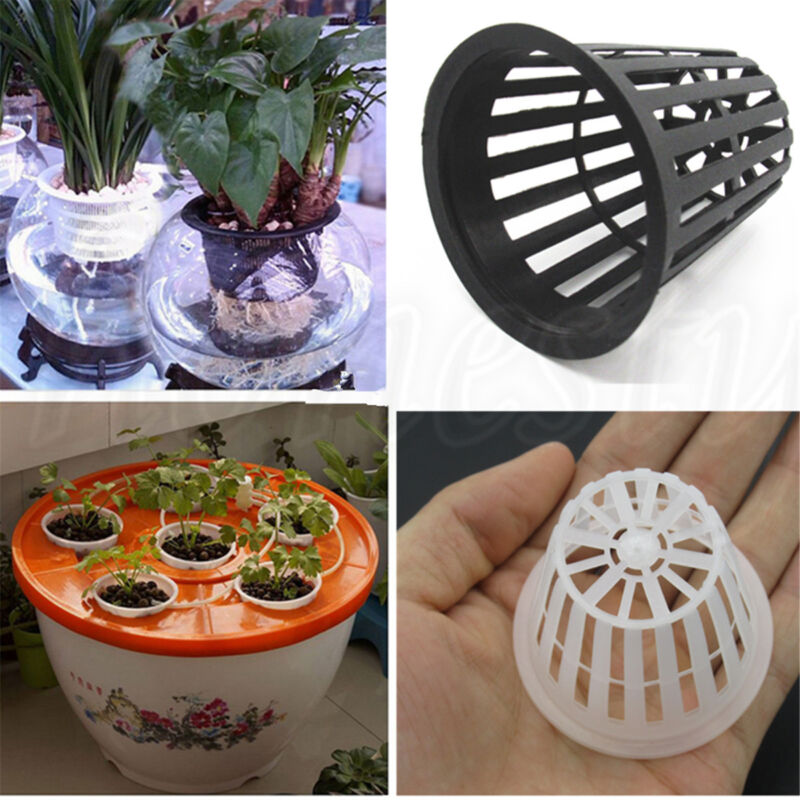basket: (409, 17, 779, 364), (508, 470, 775, 763), (182, 187, 355, 310), (33, 165, 175, 270)
